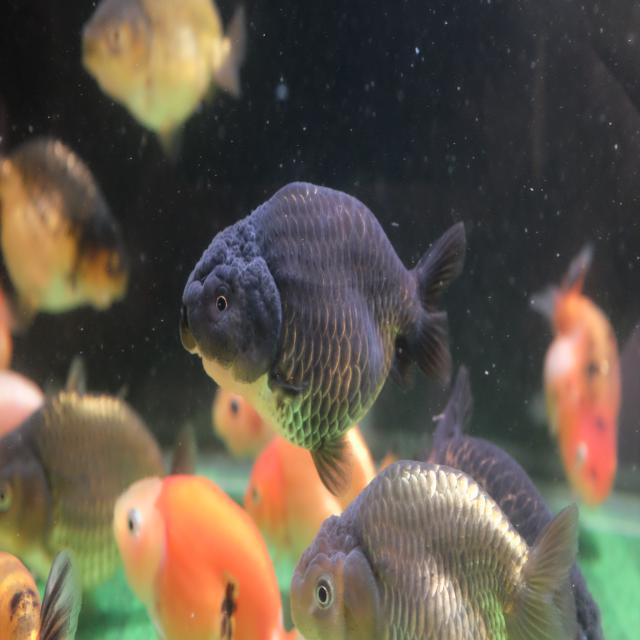Goldfish: (176, 179, 468, 500), (289, 458, 581, 640), (0, 389, 199, 598), (111, 467, 288, 640), (81, 0, 249, 165), (0, 133, 132, 337), (527, 241, 622, 513)
